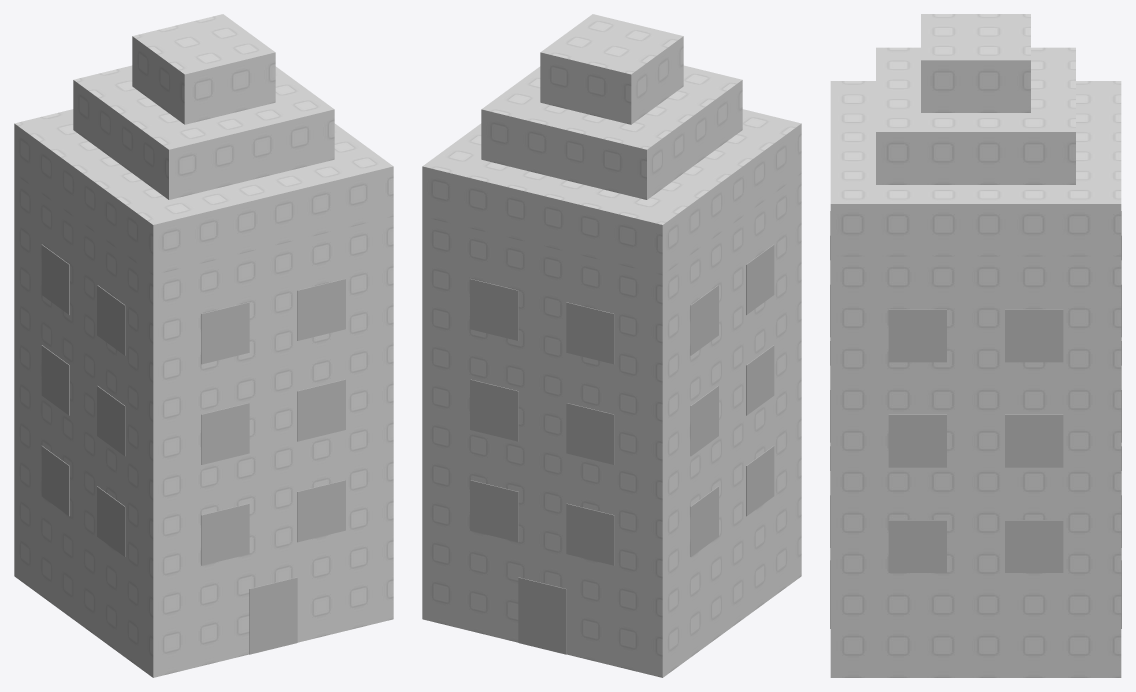
File: 3Floor1.FBX
3 views of the same model, side by side, from view 1: azimuth 30°, elevation 25°; view 2: azimuth 150°, elevation 25°; view 3: azimuth 270°, elevation 25° (orthographic). The views are drawn at different scales.
Parts seen in each view (by area): view 1: qiang, wuding, chuang, men; view 2: qiang, wuding, chuang, men; view 3: qiang, wuding, chuang.
Part boxes in pixels (x1,y1,x2,y2): qiang: [14, 174, 393, 677]; wuding: [14, 14, 393, 275]; chuang: [41, 244, 345, 565]; men: [249, 577, 297, 654]; qiang: [422, 174, 801, 677]; wuding: [422, 14, 801, 275]; chuang: [470, 244, 774, 565]; men: [518, 577, 566, 654]; qiang: [830, 256, 1121, 677]; wuding: [830, 14, 1121, 256]; chuang: [830, 211, 1121, 572].
Bounding box in the file's own units: 6.46 × 14.14 × 6.46.
